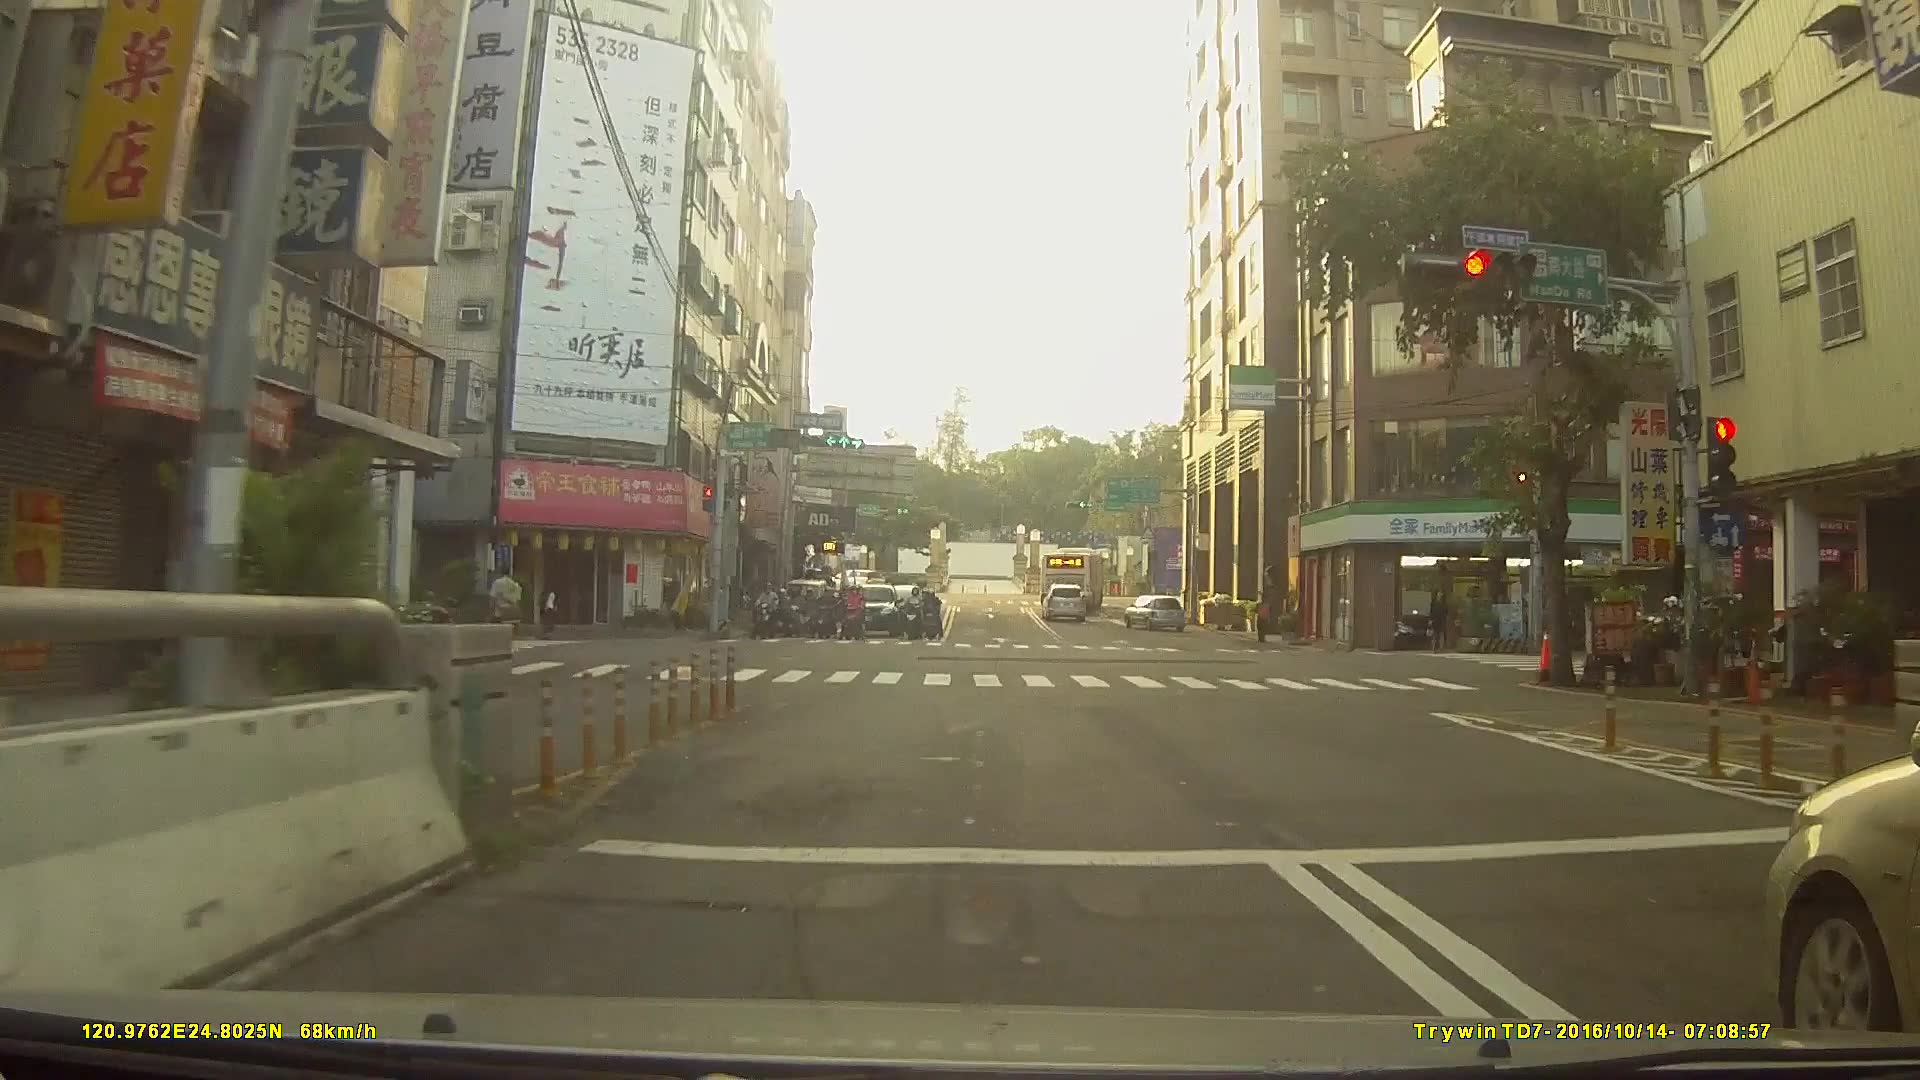pedestrian: (485, 562, 529, 663), (1425, 586, 1452, 654), (543, 581, 563, 638), (1254, 594, 1274, 647)
rider: (752, 582, 782, 644), (838, 586, 867, 644), (816, 585, 841, 643), (784, 589, 810, 641), (902, 587, 925, 641), (920, 598, 942, 650)
vehicle: (1039, 544, 1110, 613), (841, 583, 902, 642), (1121, 592, 1186, 632), (1040, 583, 1090, 622), (833, 565, 886, 593)
